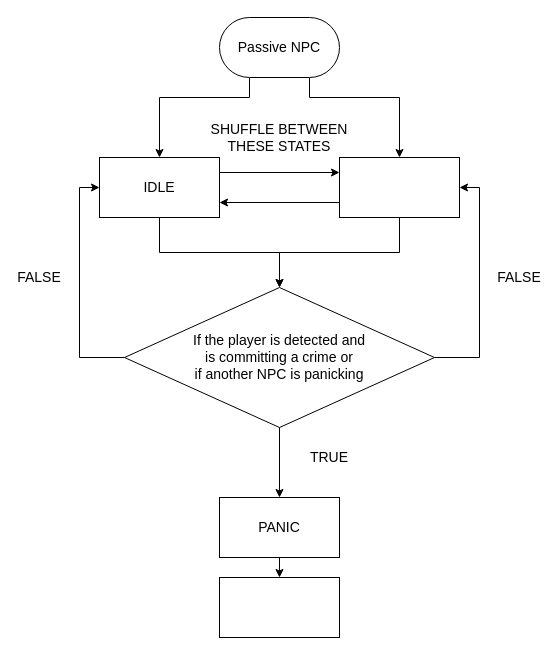
Image size: 558x655. Some labels were removed from this diagram. Here are the shapes that lost their labels. From the top down, the centre of each, then its label:
point (399, 187): WANDER
point (279, 607): DEATH
